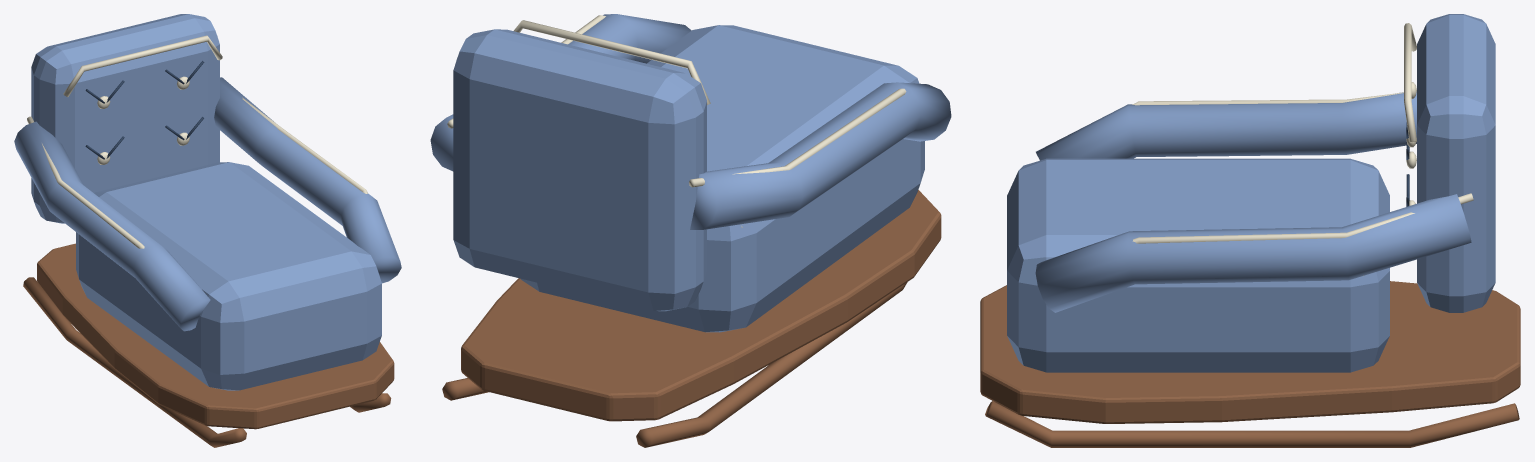
Rendered from SofaSurfers.glb.
The picture shows the model from 3 angles, left to right: view 1: azimuth 30°, elevation 25°; view 2: azimuth 150°, elevation 25°; view 3: azimuth 270°, elevation 25°; orthographic projection. The views are drawn at different scales.
Parts seen in each view (by area): view 1: SofaSurfers_StaticSurfaces; view 2: SofaSurfers_StaticSurfaces; view 3: SofaSurfers_StaticSurfaces.
Part boxes in pixels (bbox=[...]): SofaSurfers_StaticSurfaces: bbox=[14, 14, 401, 447]; SofaSurfers_StaticSurfaces: bbox=[430, 14, 951, 447]; SofaSurfers_StaticSurfaces: bbox=[980, 14, 1520, 447].
Size of the model in its own units: 0.198 by 0.2144 by 0.302.
